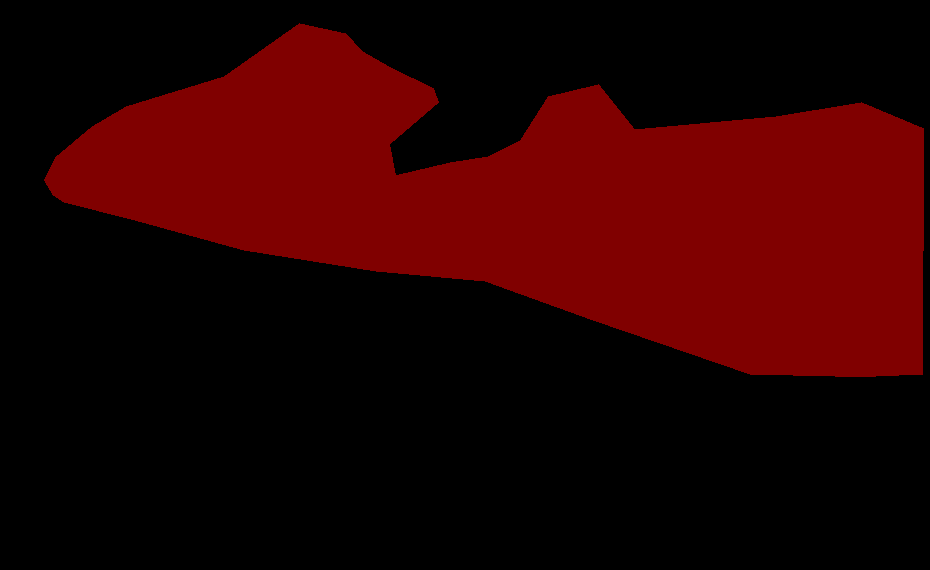fire: (44, 23, 923, 376)
